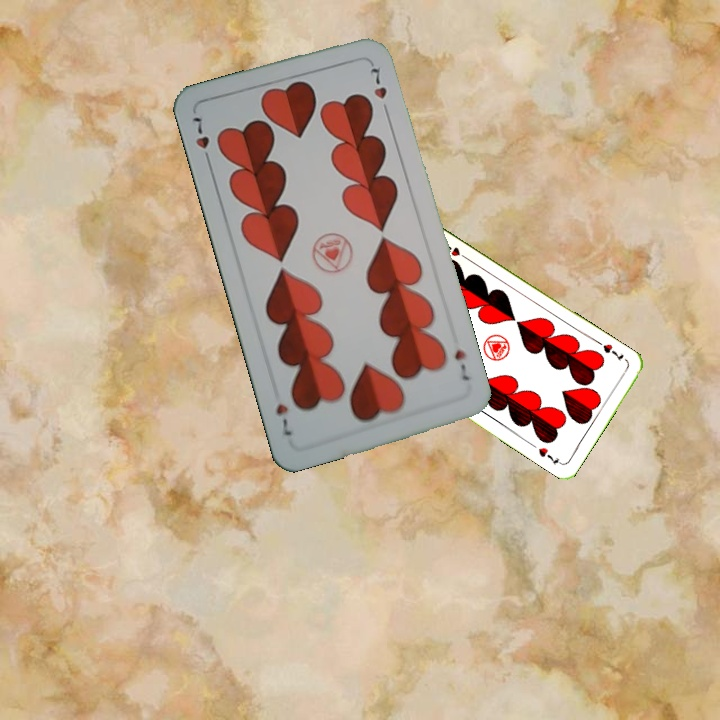H7: (189, 111, 213, 168), (450, 345, 472, 384), (599, 340, 626, 364)
